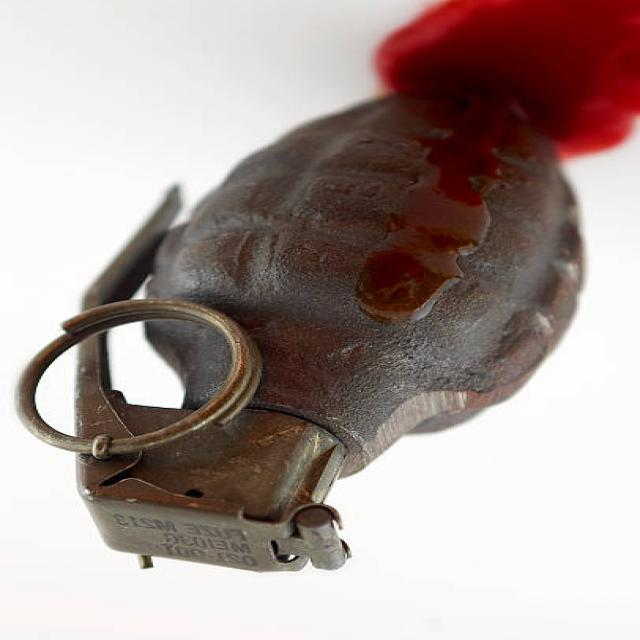grenade: (1, 67, 603, 582)
